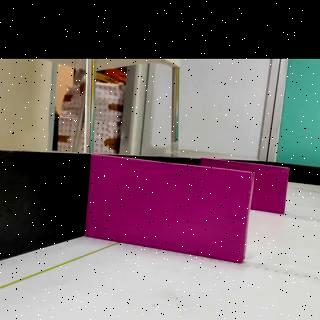xparking: (86, 155, 253, 263), (251, 164, 289, 214)
